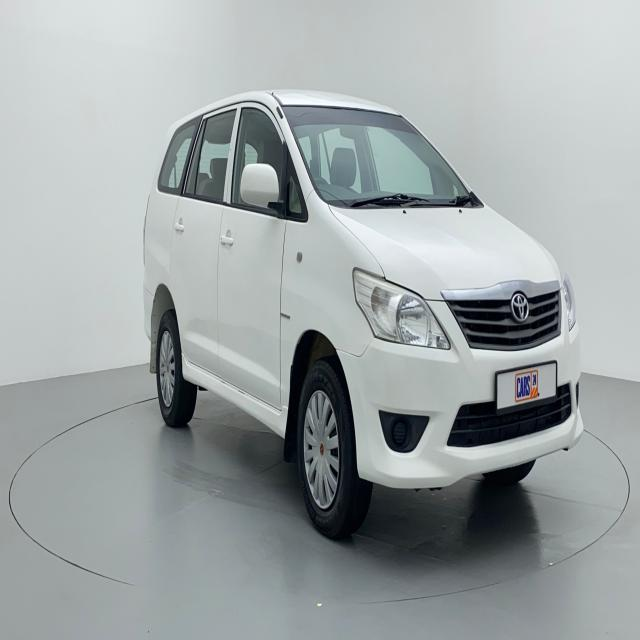light_vehicle: (142, 90, 586, 542)
